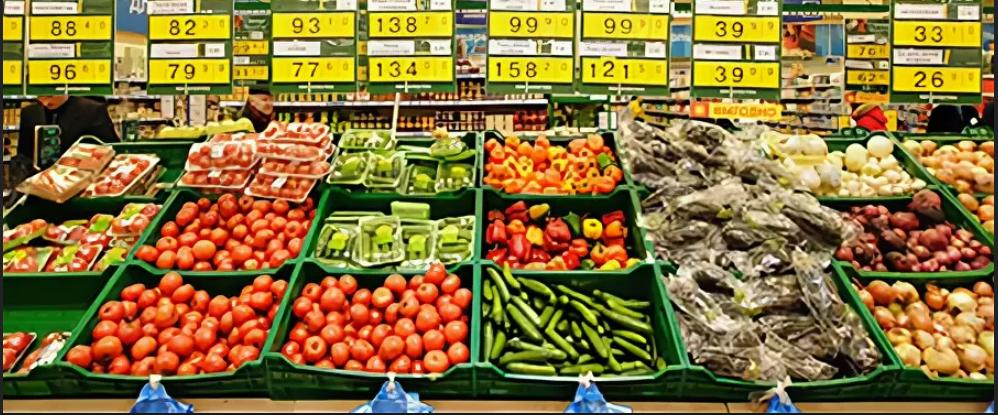cucumber: (314, 129, 476, 269), (482, 276, 666, 379)
eggplant: (674, 256, 869, 384), (634, 176, 822, 264), (622, 117, 774, 188)
onion: (870, 282, 998, 379), (835, 201, 994, 272)
sweet pepper: (483, 198, 641, 270), (483, 136, 623, 194)
tomato: (64, 272, 288, 380), (282, 271, 472, 372), (140, 191, 314, 269), (0, 202, 163, 273), (183, 126, 332, 198), (23, 134, 170, 202), (0, 329, 69, 375)
